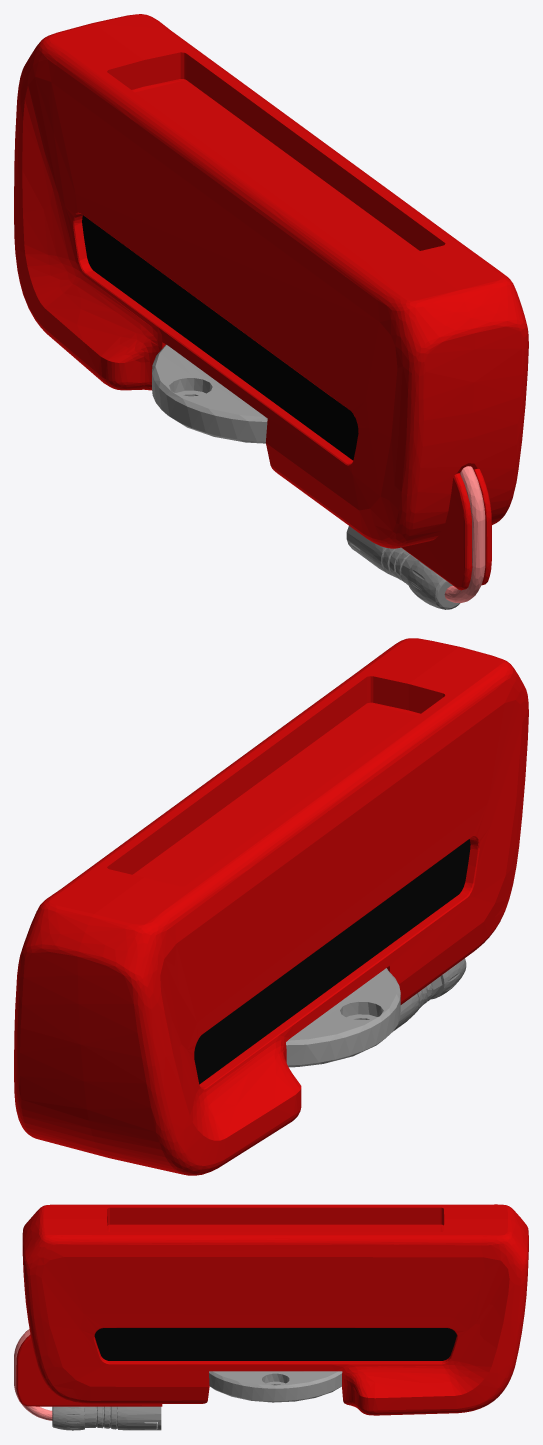
File: hand.dae
3 renders of one model, top to bottom at view 1: azimuth 30°, elevation 25°; view 2: azimuth 150°, elevation 25°; view 3: azimuth 270°, elevation 25°, orthographic. The views are drawn at different scales.
Visible parts, largest first — view 1: node5, node5_001, node2, node0, node1; view 2: node5, node5_001, node2, node0; view 3: node5, node5_001, node2, node0, node1.
Part boxes in pixels (x1,y1,x2,y2): node5: [14, 14, 528, 590]; node5_001: [82, 215, 358, 460]; node2: [152, 344, 267, 443]; node0: [346, 526, 459, 609]; node1: [444, 466, 485, 603]; node5: [14, 638, 528, 1175]; node5_001: [194, 839, 470, 1084]; node2: [286, 968, 400, 1067]; node0: [393, 958, 466, 1031]; node5: [16, 1204, 528, 1415]; node5_001: [94, 1328, 456, 1360]; node2: [209, 1371, 342, 1402]; node0: [52, 1406, 161, 1430]; node1: [14, 1329, 52, 1420].
Size of the model in its own units: 0.063 by 0.2045 by 0.0919.
